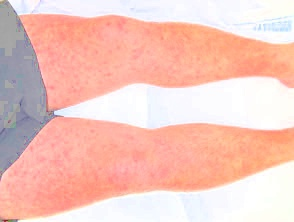SJS-TEN: (10, 0, 294, 115), (0, 112, 294, 222)
